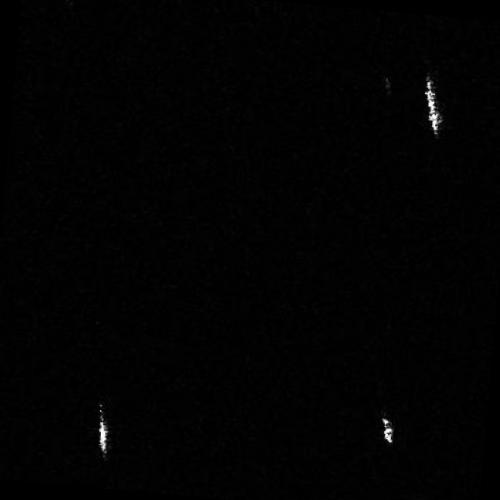ship: (424, 77, 445, 135), (97, 408, 109, 458), (380, 416, 396, 445)
